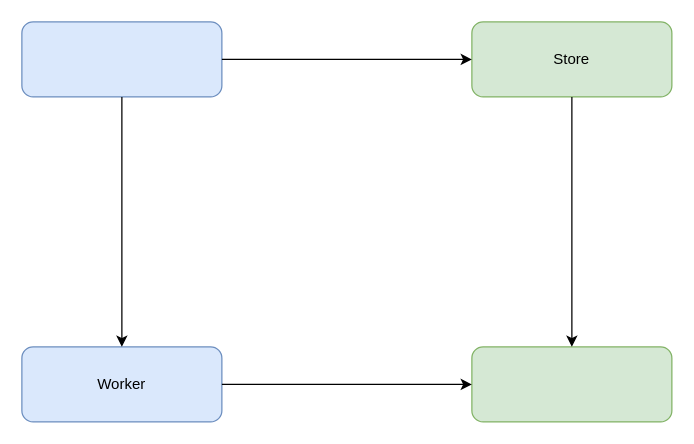
Some shapes in this 694 by 444 pixel diagram are drawn without their labels. The shapes that lost their labels are listed below. From the top down, each one's centre as x and y in pixels, then its label:
At (121,59): "Web".
At (571,384): "Cache".
